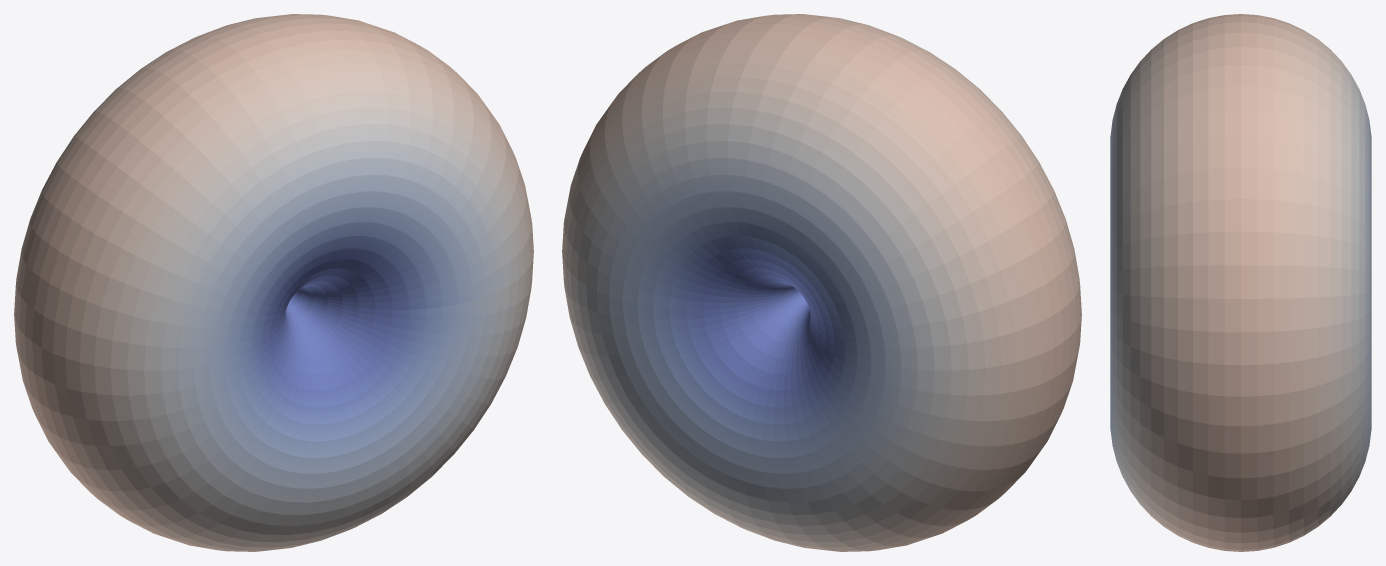
3 views of the same model, side by side, from view 1: azimuth 30°, elevation 25°; view 2: azimuth 150°, elevation 25°; view 3: azimuth 270°, elevation 25° (orthographic). The views are drawn at different scales.
Visible parts, largest first — view 1: world; view 2: world; view 3: world.
Boxes of the visible parts, bbox=[...] form: world: bbox=[14, 14, 533, 551]; world: bbox=[562, 14, 1081, 551]; world: bbox=[1110, 14, 1371, 551].
Size of the model in its own units: 19.47 by 19.43 by 9.45.
